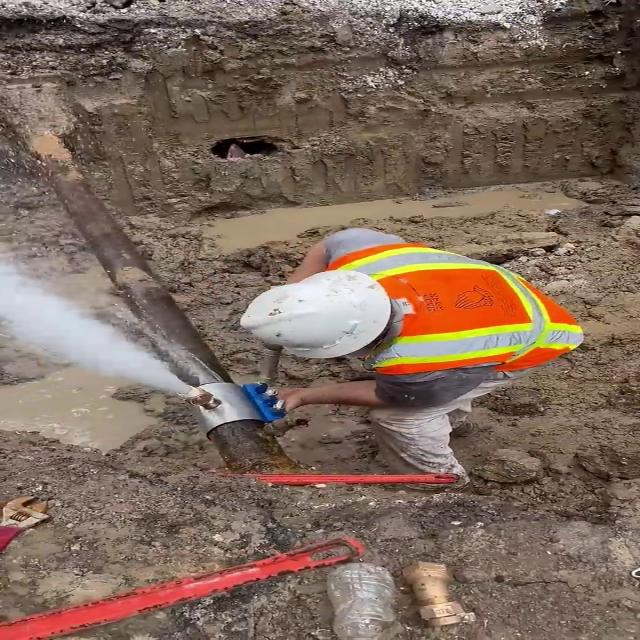leak: (0, 254, 188, 395)
